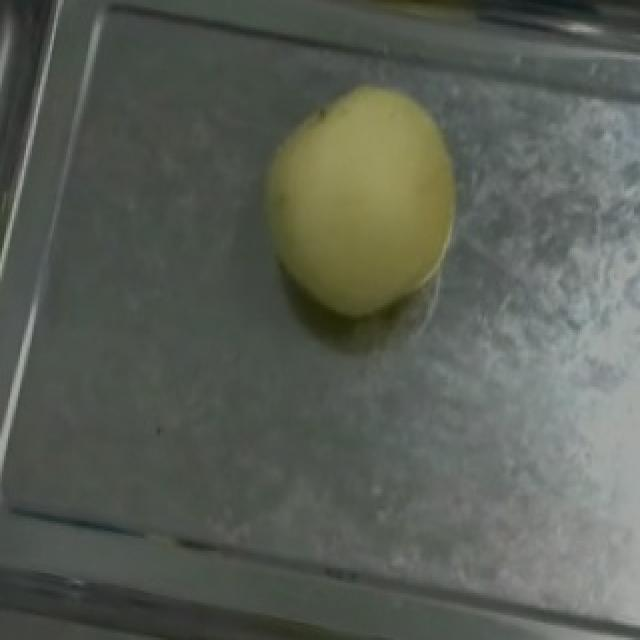Fruit: (226, 55, 484, 342)
